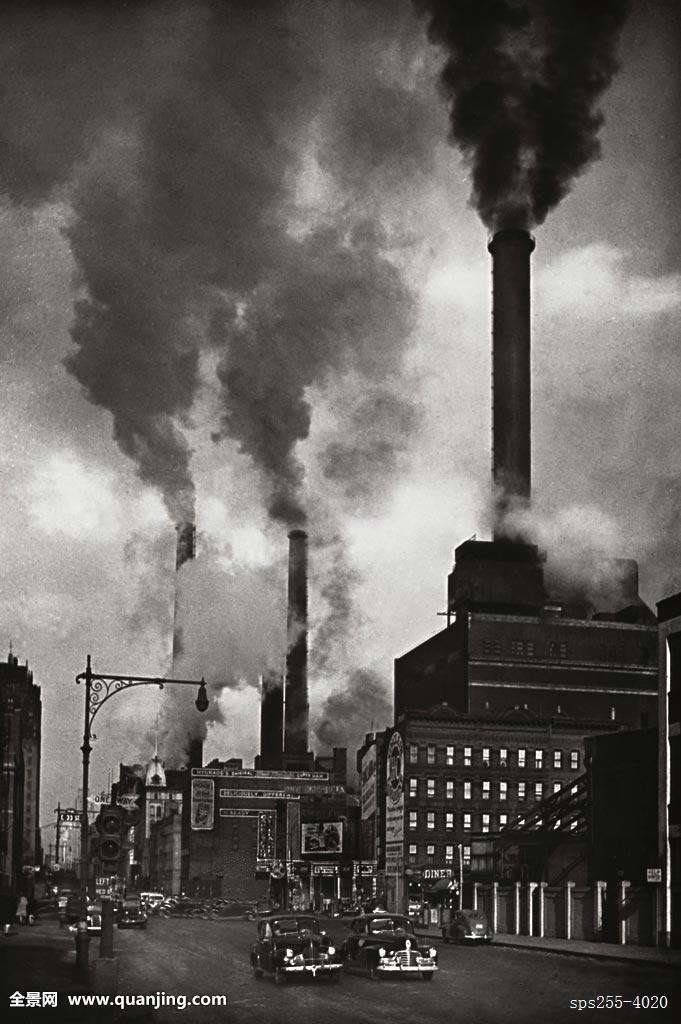dust: (49, 181, 214, 560), (444, 22, 624, 274), (221, 258, 361, 560)
